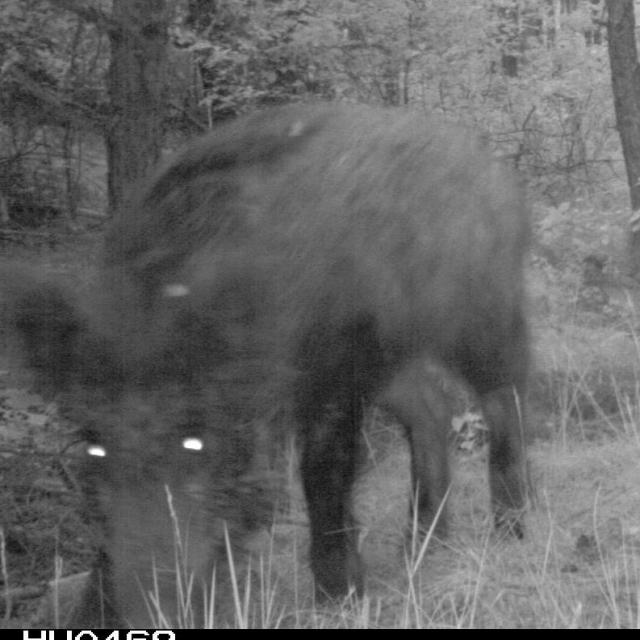pig: (36, 58, 558, 602)
